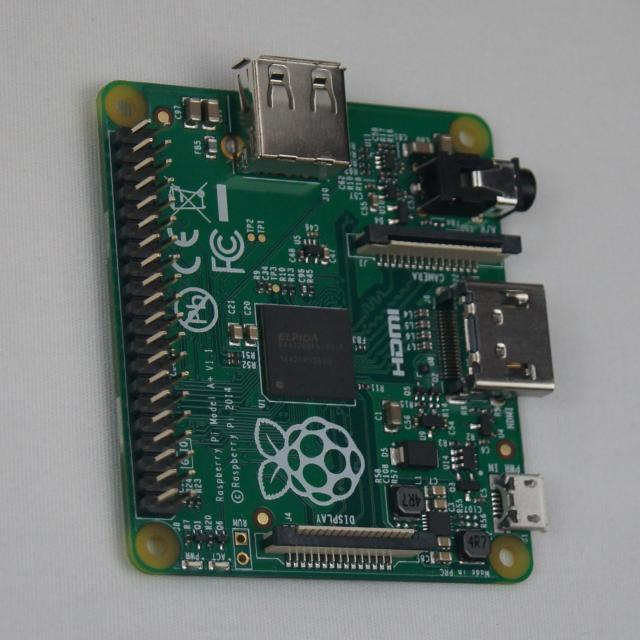Raspberry-Pi-1-A-: (98, 57, 556, 583)
